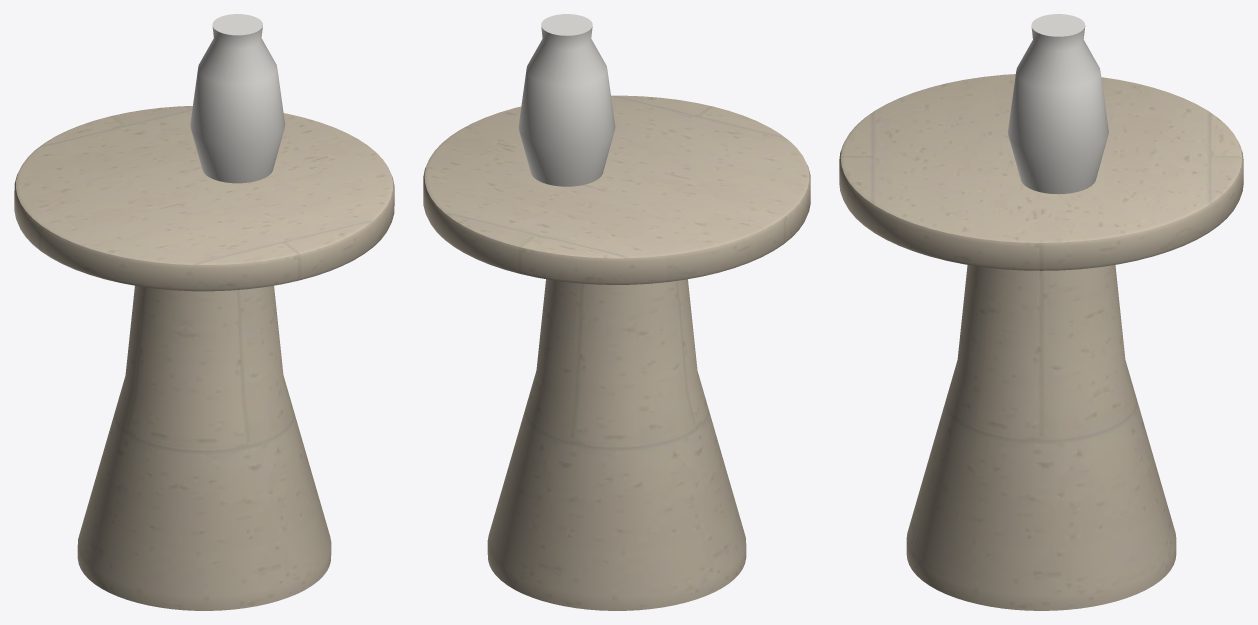
The model's file is mesa-aux-travertino-v2.gltf.
The picture shows the model from 3 angles, left to right: view 1: azimuth 30°, elevation 25°; view 2: azimuth 150°, elevation 25°; view 3: azimuth 270°, elevation 25°; orthographic projection. The views are drawn at different scales.
Visible parts, largest first — view 1: mesa-aux-travertino__s_travertino, mesa-aux-travertino__c_mate; view 2: mesa-aux-travertino__s_travertino, mesa-aux-travertino__c_mate; view 3: mesa-aux-travertino__s_travertino, mesa-aux-travertino__c_mate.
Part boxes in pixels (bbox=[...]): mesa-aux-travertino__s_travertino: bbox=[14, 106, 394, 610]; mesa-aux-travertino__c_mate: bbox=[190, 14, 285, 183]; mesa-aux-travertino__s_travertino: bbox=[423, 95, 810, 610]; mesa-aux-travertino__c_mate: bbox=[518, 14, 615, 186]; mesa-aux-travertino__s_travertino: bbox=[839, 74, 1243, 610]; mesa-aux-travertino__c_mate: bbox=[1007, 14, 1108, 194].
Bounding box in the file's own units: 0.48 × 0.72 × 0.48.
Materials: 2 (1 with a texture image).
